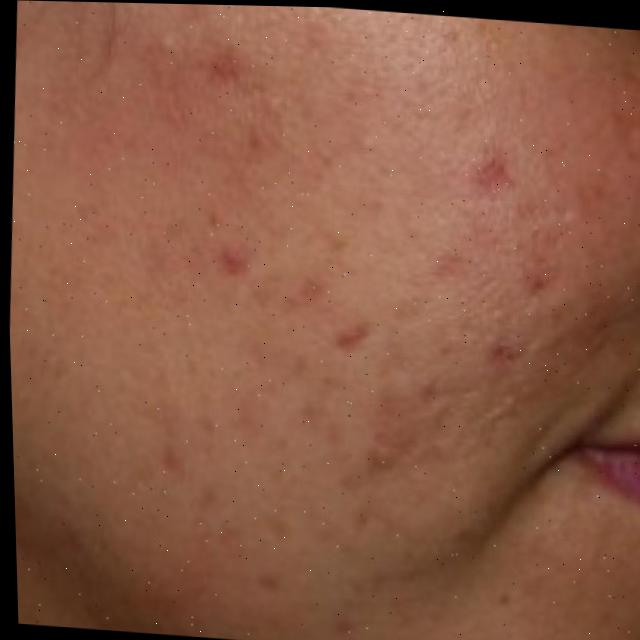Acne: (183, 47, 563, 530)
